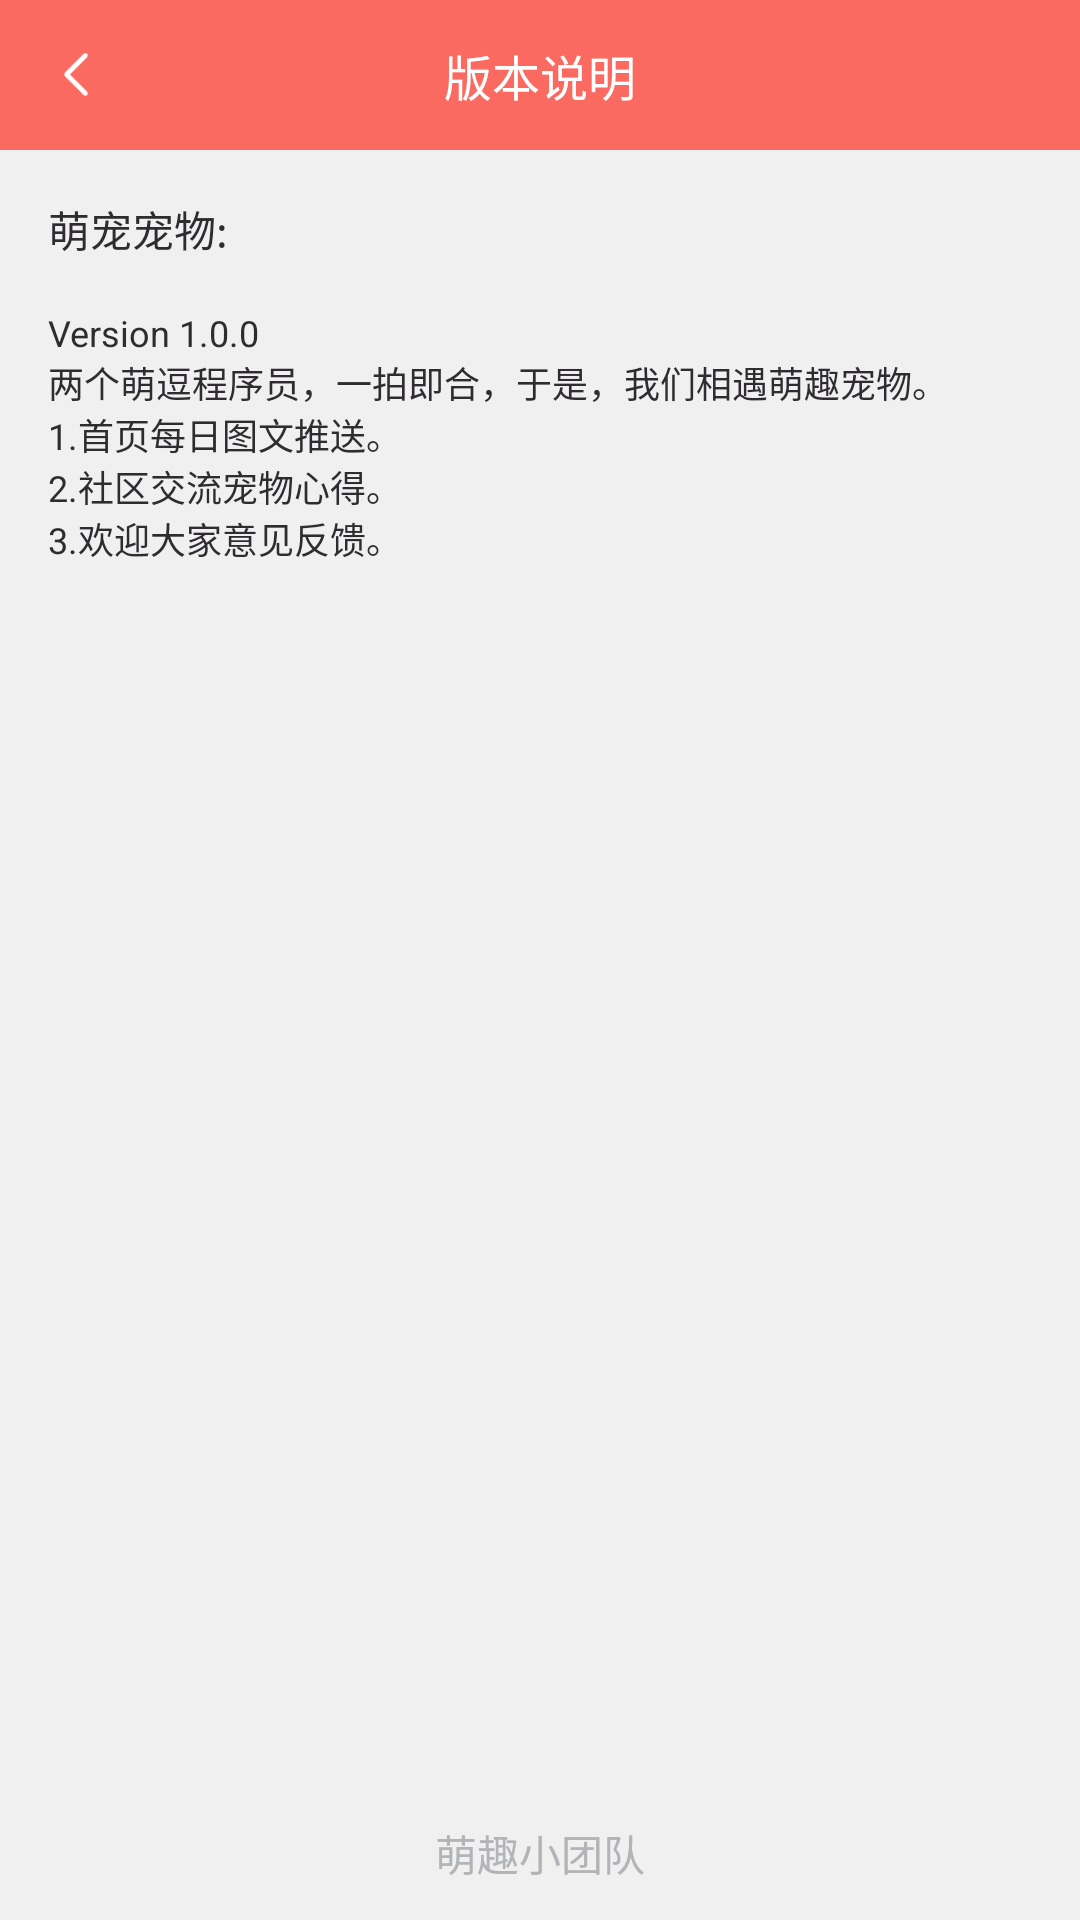

Locate icon controls on the screen. Image size 1080x1920, boxes as (x1, y1, x2, y2).
back: (64, 53, 88, 96)
